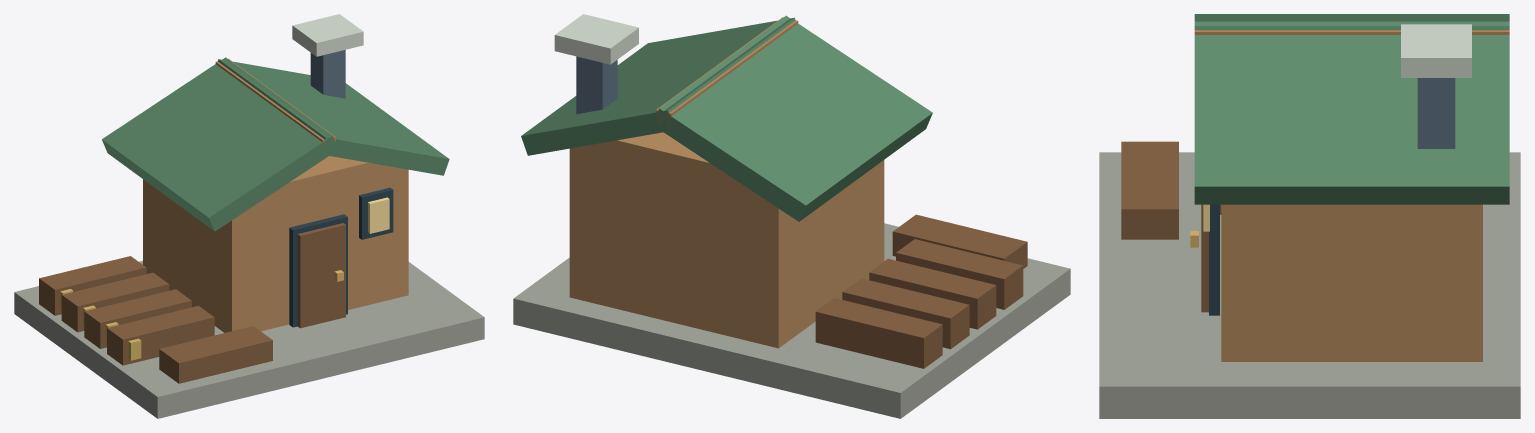
Rendered from lumber_yard.glb.
3 views of the same model, side by side, from view 1: azimuth 30°, elevation 25°; view 2: azimuth 150°, elevation 25°; view 3: azimuth 270°, elevation 25° (orthographic). The views are drawn at different scales.
Size of the model in its own units: 2.5 by 1.73 by 1.9.
